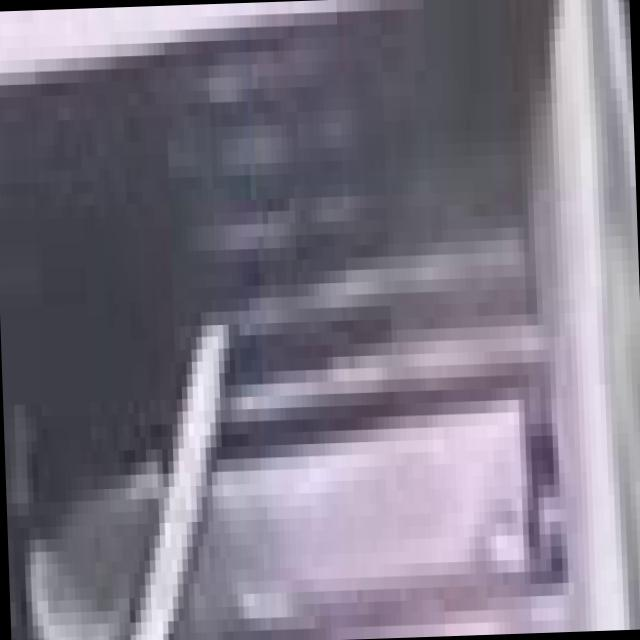stick: (96, 285, 249, 640)
